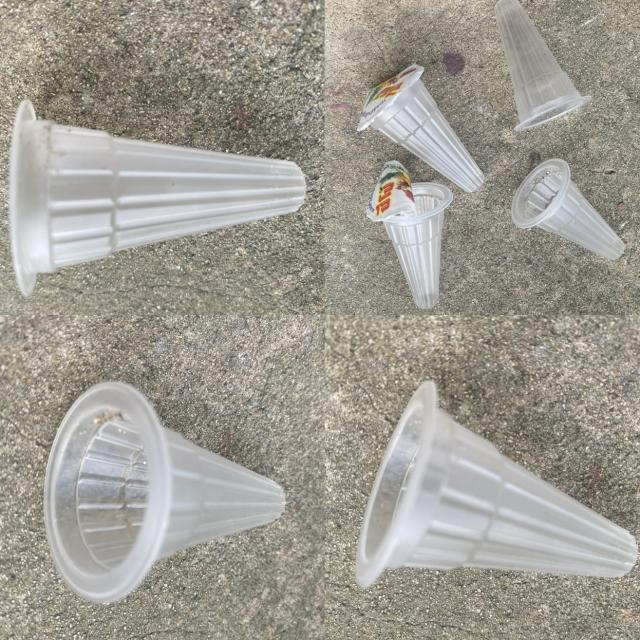plastik: (355, 381, 637, 587), (10, 100, 305, 296), (43, 382, 286, 603), (358, 64, 484, 192), (494, 0, 590, 131), (367, 161, 452, 308), (511, 159, 624, 258)
